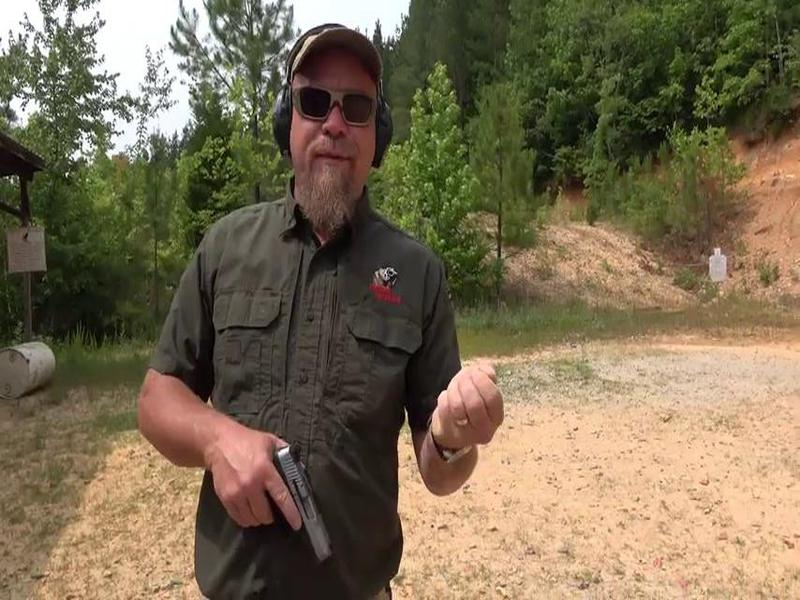Pistola: (218, 413, 345, 586)
